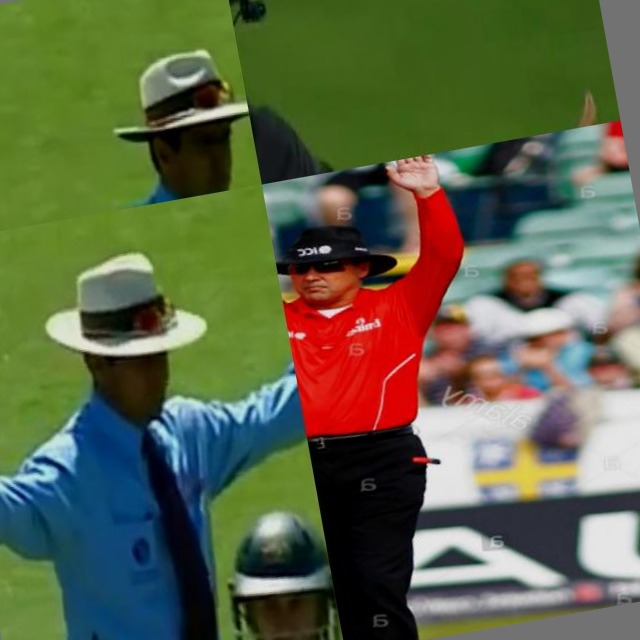No_Ball: (223, 0, 621, 184), (0, 3, 262, 243)
Six: (262, 146, 559, 640)
Wide: (0, 195, 335, 640)
